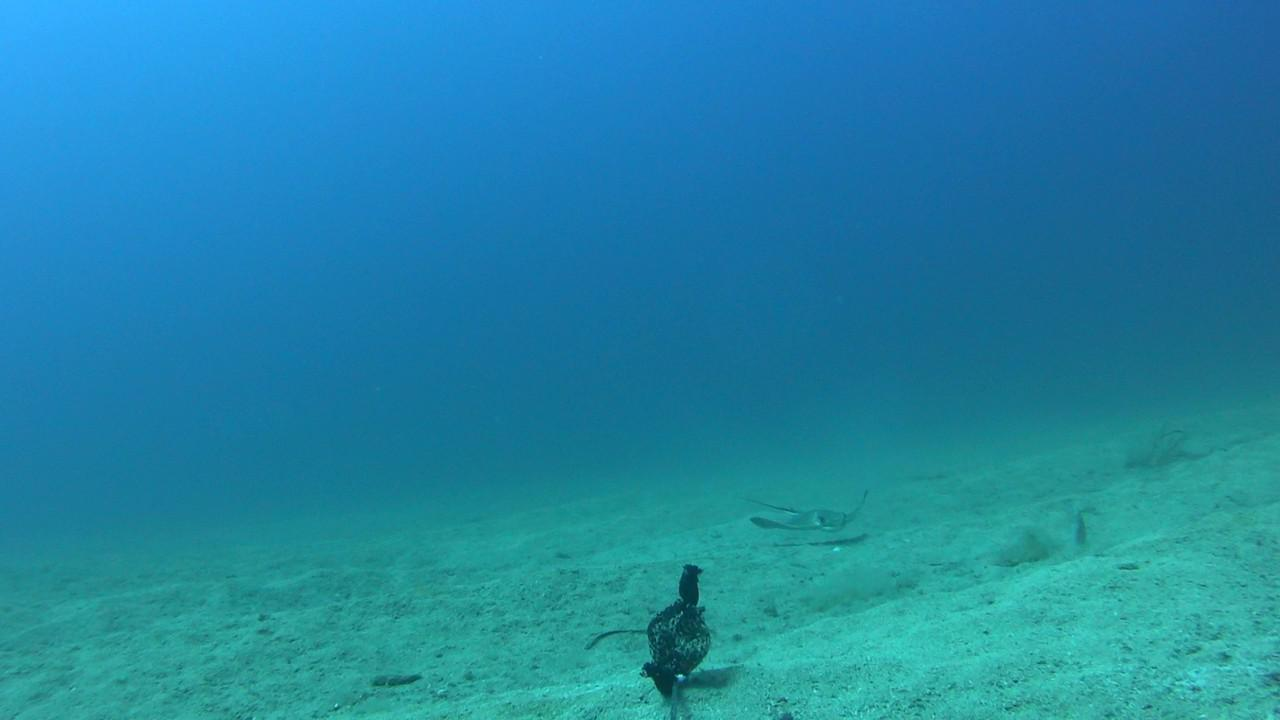myliobatis: (729, 479, 889, 545)
